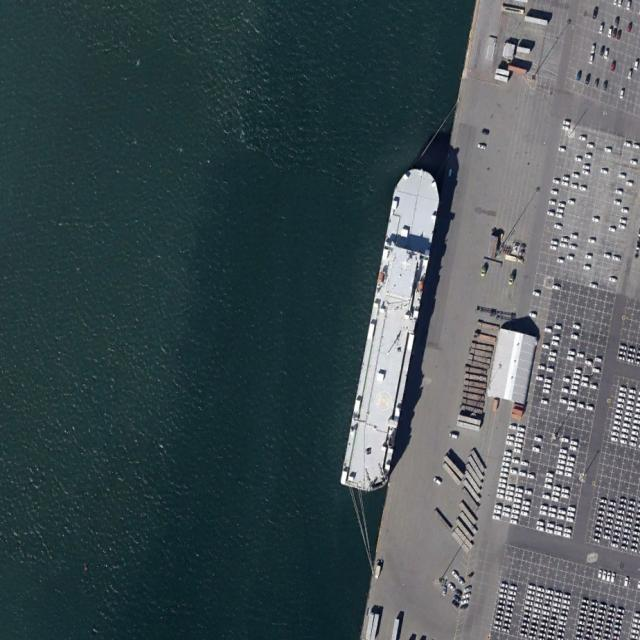RoRo: (339, 160, 445, 497)
